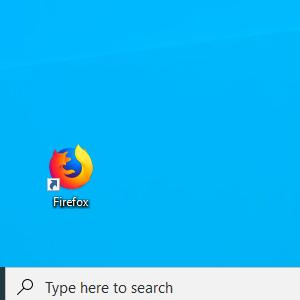firefox: (46, 143, 94, 192)
